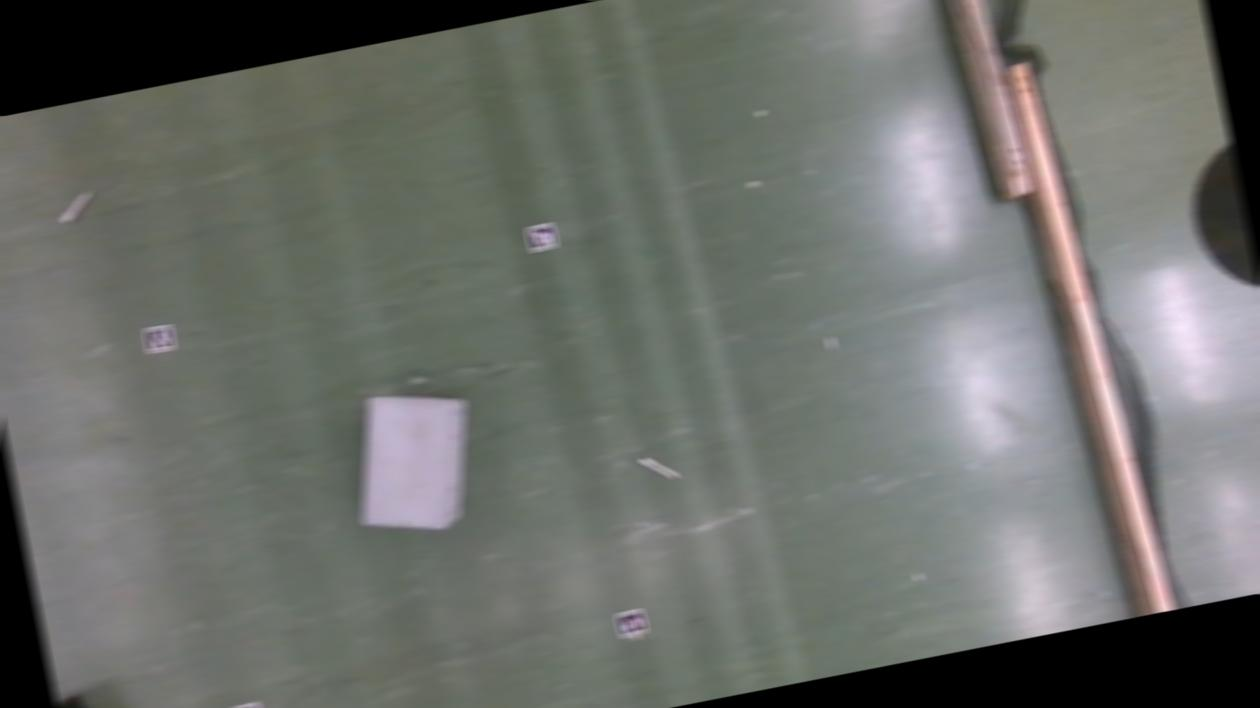probes: (640, 450, 680, 486), (58, 189, 96, 224)
rako: (338, 381, 490, 546)
